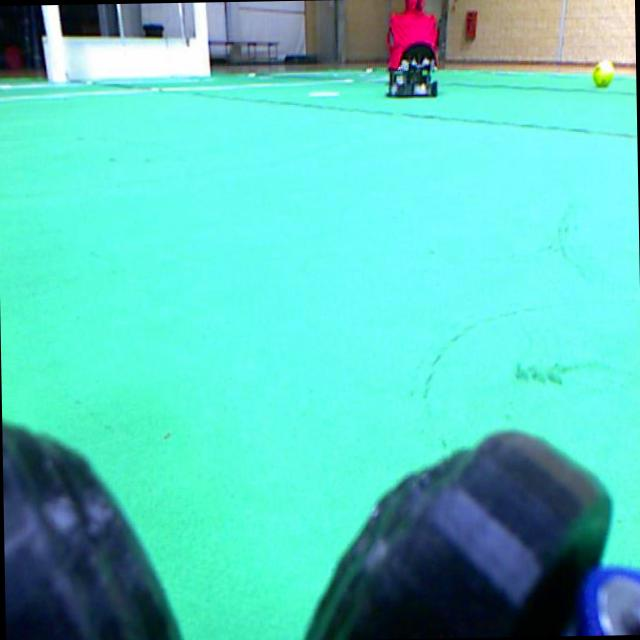ball: (593, 59, 613, 86)
goal: (40, 5, 66, 81), (192, 2, 209, 75)
